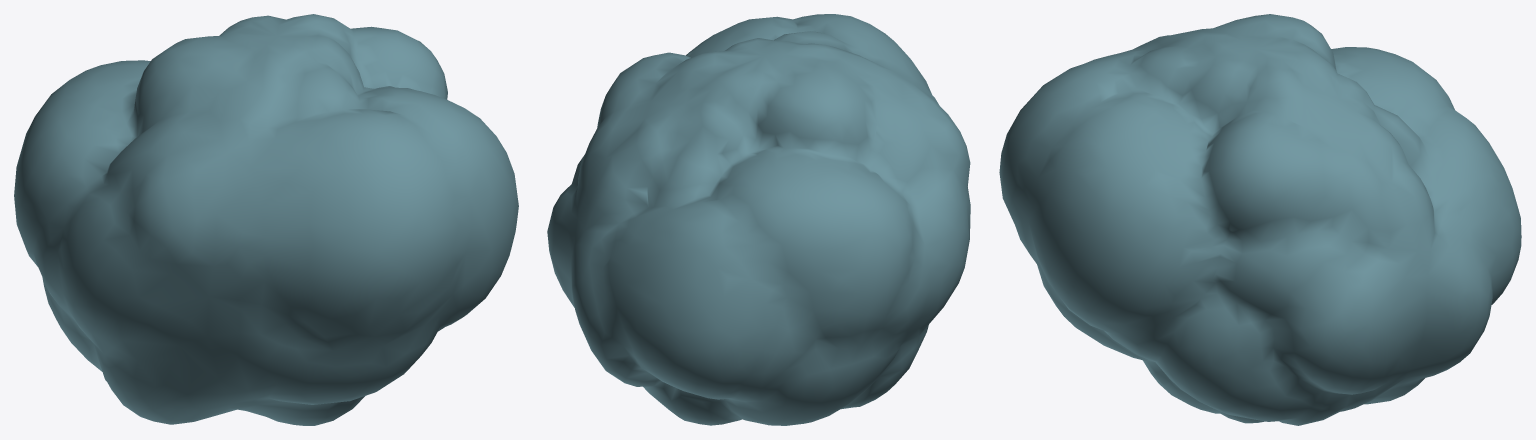
Rendered from env_primalcave_rocks_blob02.fbx.
The picture shows the model from 3 angles, left to right: view 1: azimuth 30°, elevation 25°; view 2: azimuth 150°, elevation 25°; view 3: azimuth 270°, elevation 25°; orthographic projection. The views are drawn at different scales.
Visible parts, largest first — view 1: env_excavation_underground_sticky_blockout_blob02; view 2: env_excavation_underground_sticky_blockout_blob02; view 3: env_excavation_underground_sticky_blockout_blob02.
Part boxes in pixels (x1,y1,x2,y2): env_excavation_underground_sticky_blockout_blob02: (14,14,518,425); env_excavation_underground_sticky_blockout_blob02: (547,14,970,425); env_excavation_underground_sticky_blockout_blob02: (999,14,1521,425).
Size of the model in its own units: 19.58 by 17.23 by 22.91.
